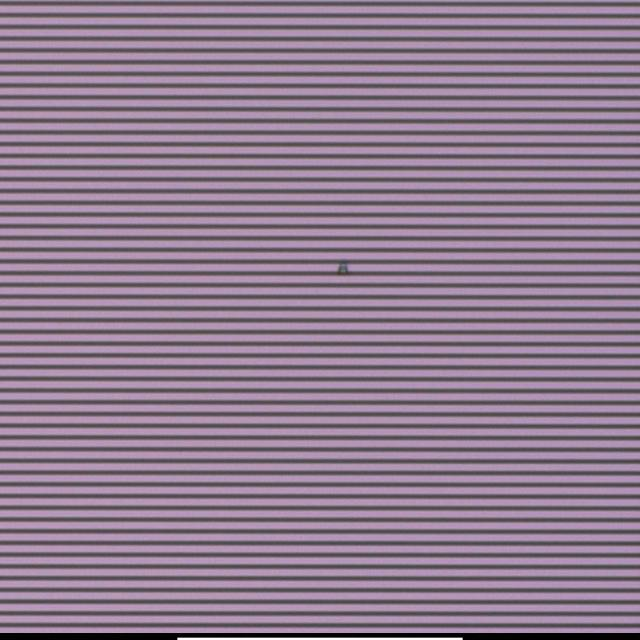03_intrusion: (334, 259, 355, 279)
